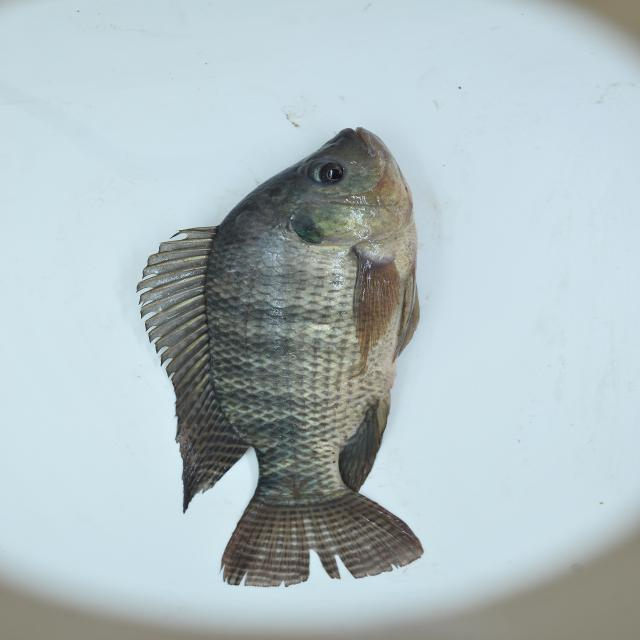Healthy Fish: (136, 123, 434, 593)
